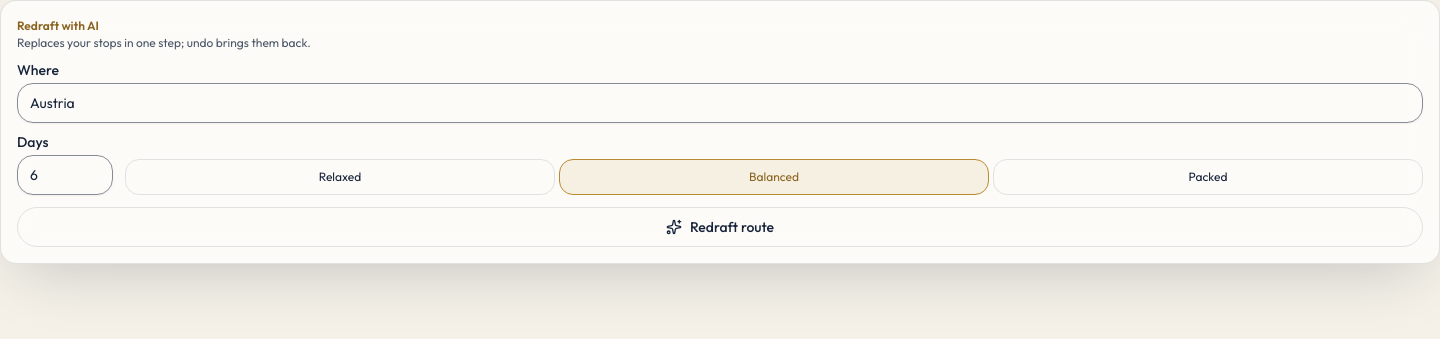
RedraftCard › explains a rate limit without touching the route
The image size is (1440, 339).
Click the button "Redraft route".
click(720, 227)  # box [17,207,1423,247]
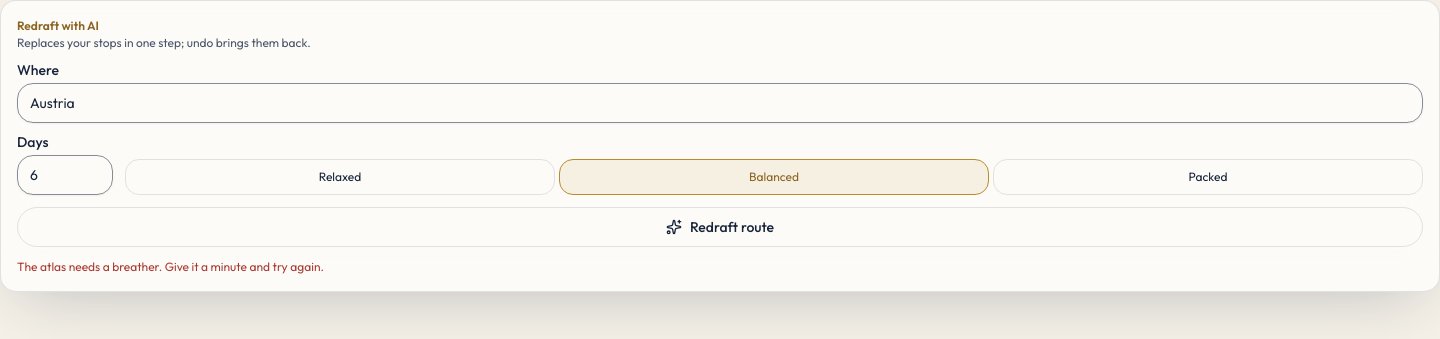
Expected: the message shows "breather", [17,259,324,274]
